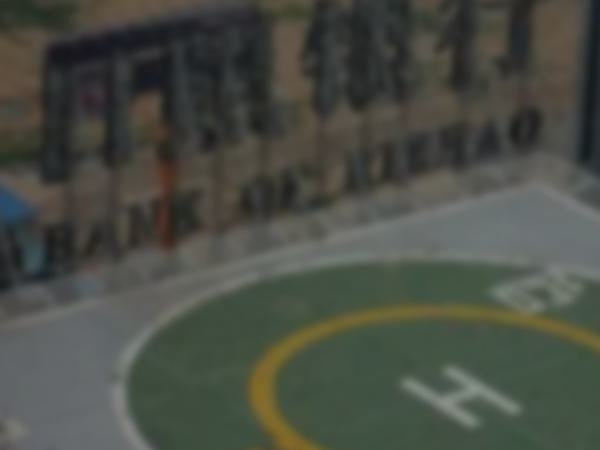Apron: (236, 284, 600, 450)
